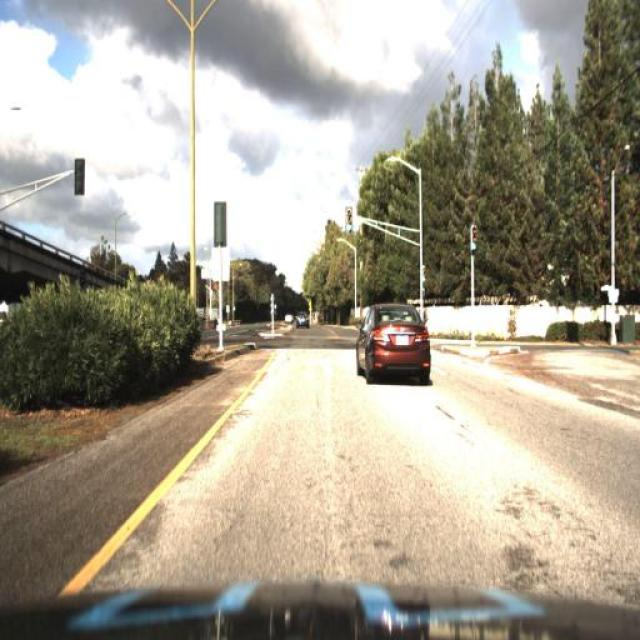car: (352, 304, 438, 401), (292, 306, 314, 330)
trafficLight-GreenLeft: (463, 216, 486, 266), (343, 199, 356, 241), (468, 221, 482, 248), (344, 208, 354, 230)
